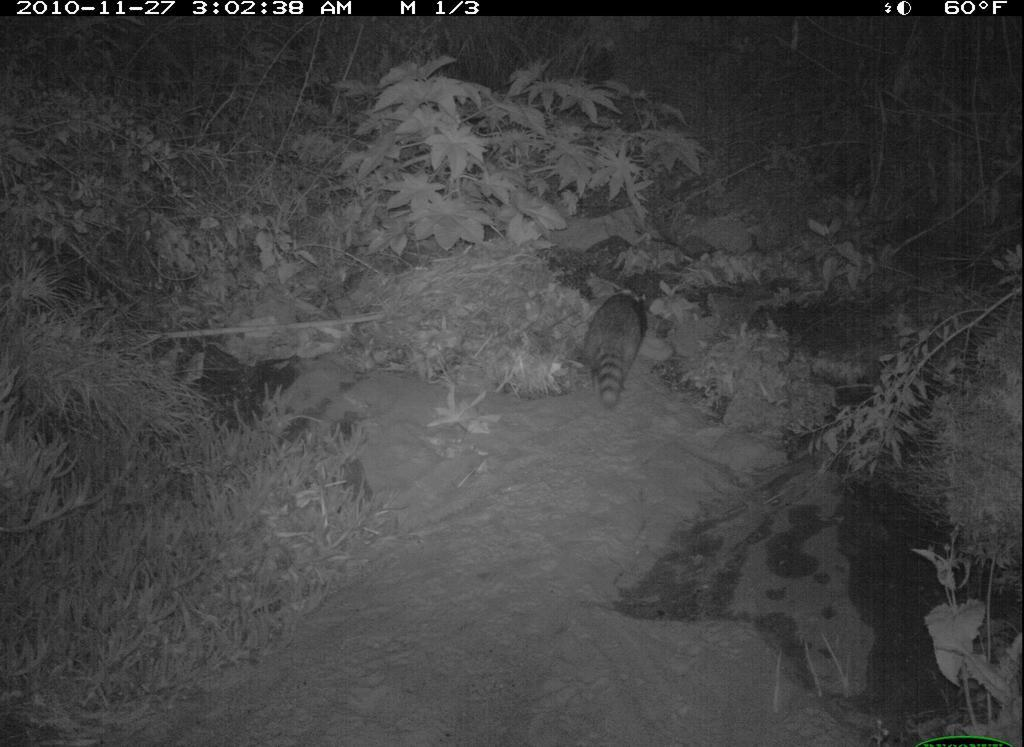raccoon: (577, 282, 666, 424)
